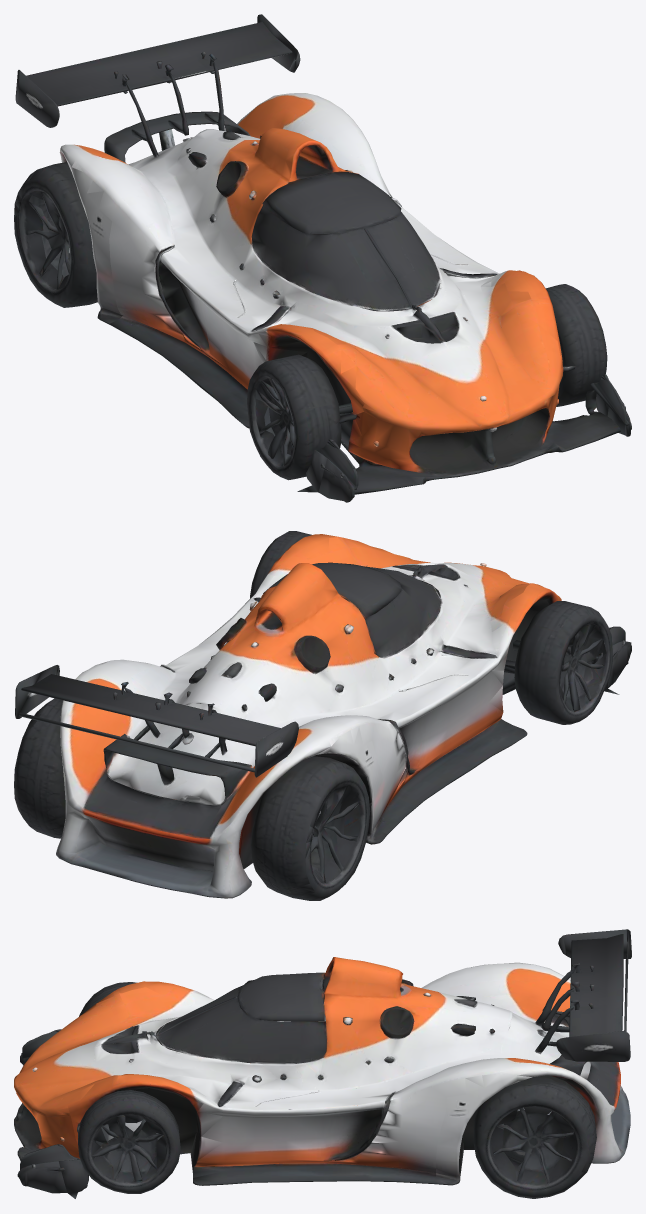
Rendered from endurance-coupe.glb.
3 renders of one model, top to bottom at view 1: azimuth 30°, elevation 25°; view 2: azimuth 150°, elevation 25°; view 3: azimuth 270°, elevation 25°, orthographic. The views are drawn at different scales.
Visible parts, largest first — view 1: Car_Body, Wheel_FL, Wheel_RL, Wheel_FR; view 2: Car_Body, Wheel_FL, Wheel_RL, Wheel_FR; view 3: Car_Body, Wheel_RR, Wheel_FR, Wheel_FL.
Boxes of the visible parts, x1,y1,x2,y2 form: Car_Body: (14,14,631,502); Wheel_FL: (244,324,364,492); Wheel_RL: (14,162,122,324); Wheel_FR: (481,270,621,425); Car_Body: (14,537,631,898); Wheel_FL: (487,583,619,735); Wheel_RL: (269,726,386,900); Wheel_FR: (250,531,338,598); Car_Body: (14,929,631,1193); Wheel_RR: (436,1073,588,1198); Wheel_FR: (58,1074,222,1198); Wheel_FL: (25,981,195,1058).
Size of the model in its own units: 1.88 by 1.21 by 3.65.
1 material, 1 textured.
